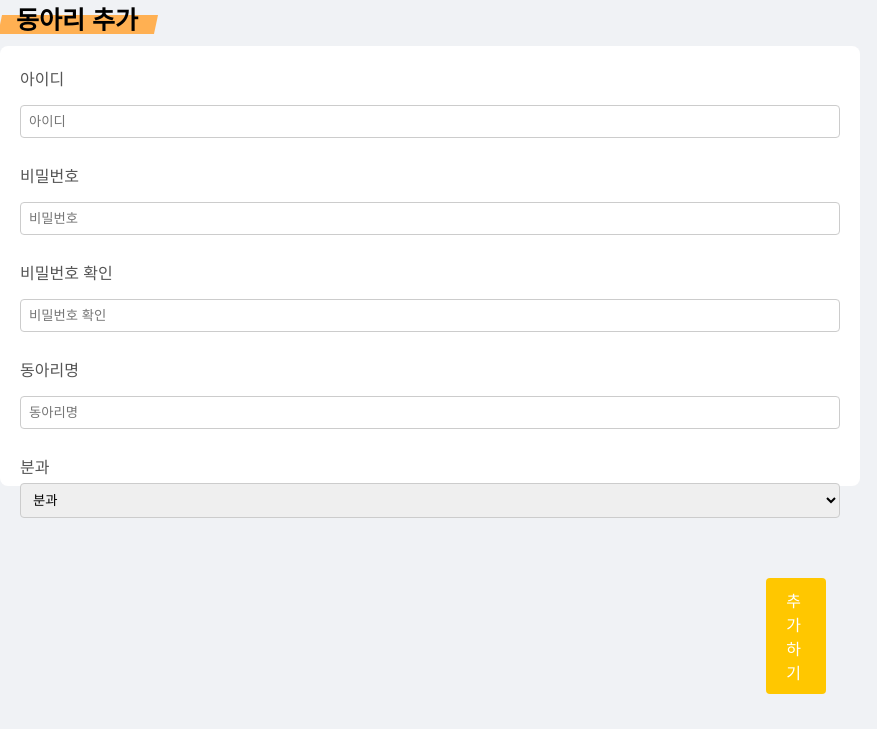
Test: Admin AddClub.vue › shows password validation error for invalid password
This screenshot has width=877, height=729.
Type "12" into the password field with placeholder "비밀번호" at point(430, 218), box x1=20 y1=202 x2=840 y2=235
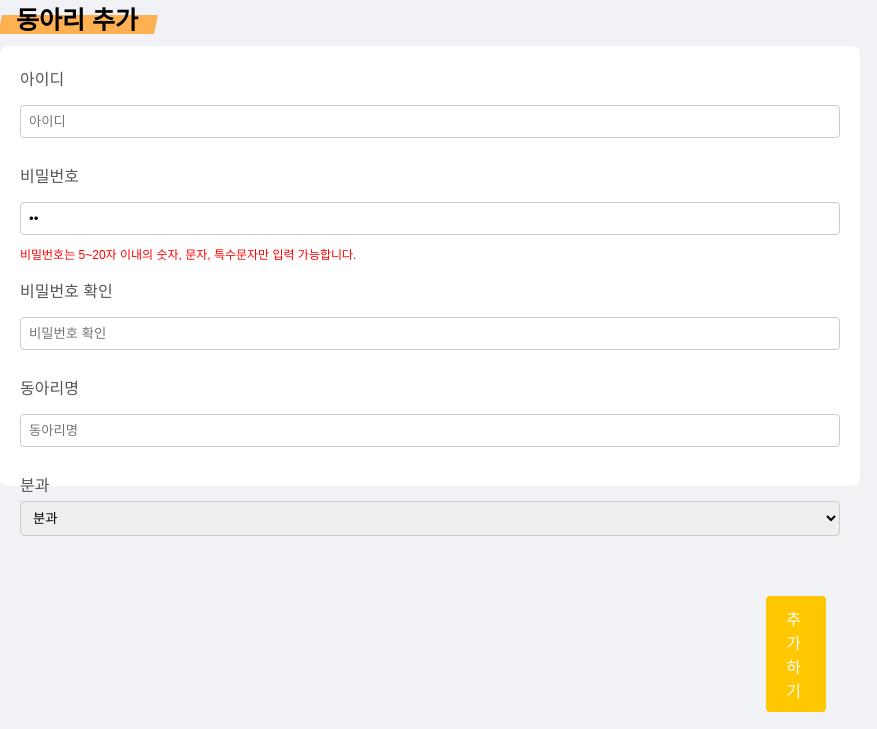
Expected: the text "비밀번호는 5~20자 이내의 숫자, 문자, 특수문자만 입력 가능합니다." is shown, x1=20 y1=248 x2=356 y2=262
